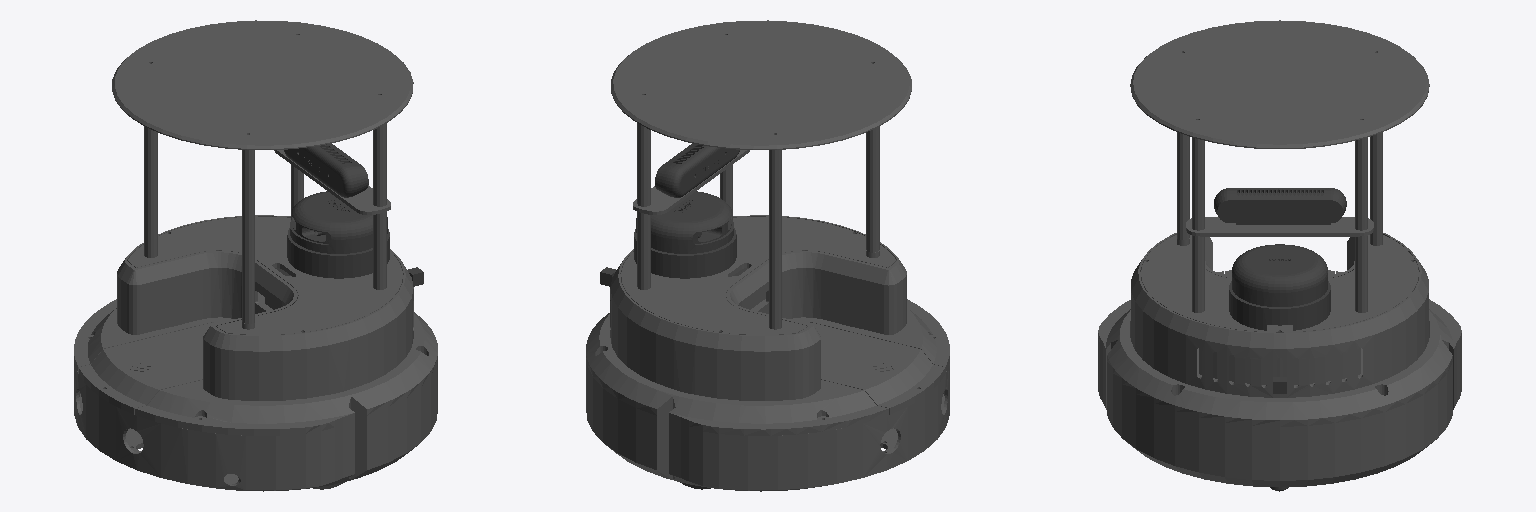
URDF robot description (titan):
<?xml version="1.0" encoding="utf-8"?>

<robot name="titan">

  <!-- ================= MATERIALS (from titan.urdf) ================= -->
  <material name="black">
    <color rgba="0.0 0.0 0.0 1.0"/>
  </material>

  <material name="dark">
    <color rgba="0.3 0.3 0.3 1.0"/>
  </material>

  <material name="light_black">
    <color rgba="0.4 0.4 0.4 1.0"/>
  </material>

  <material name="blue">
    <color rgba="0.0 0.0 0.8 1.0"/>
  </material>

  <material name="green">
    <color rgba="0.0 0.8 0.0 1.0"/>
  </material>

  <material name="grey">
    <color rgba="0.5 0.5 0.5 1.0"/>
  </material>

  <material name="orange">
    <color rgba="1.0 0.4235 0.0392 1.0"/>
  </material>

  <material name="brown">
    <color rgba="0.8706 0.8118 0.7647 1.0"/>
  </material>

  <material name="red">
    <color rgba="0.8 0.0 0.0 1.0"/>
  </material>

  <material name="white">
    <color rgba="1.0 1.0 1.0 1.0"/>
  </material>

  <!-- ================= BASE ================= -->

  <link name="base_footprint"/>

  <joint name="base_link_joint" type="fixed">
    <parent link="base_link"/>
    <child link="base_footprint"/>
    <origin xyz="0 0 0" rpy="0 0 0"/>
  </joint>

  <link name="base_link">

    <!-- MASS UPDATED TO MATCH titan.urdf -->
    <inertial>
      <origin xyz="0.00346341261510518 -0.000431167248793353 0.0900728026786845" rpy="0 0 0"/>
      <mass value="2.920547254934799"/>
      <inertia ixx="0.00396950657190701"
               ixy="3.24338418795685E-06"
               ixz="1.91406169796034E-05"
               iyy="0.00366159045993355"
               iyz="-1.43363832997866E-06"
               izz="0.00731329773396938"/>
    </inertial>

    <visual>
      <origin xyz="0 0 0" rpy="0 0 0"/>
      <geometry>
        <mesh filename="package://titan_description/meshes/titan_meshes/base_link.STL"/>
      </geometry>
      <material name="light_black"/>
    </visual>

    <collision>
      <origin xyz="0 0 0" rpy="0 0 0"/>
      <geometry>
        <mesh filename="package://titan_description/meshes/titan_meshes/base_link.STL"/>
      </geometry>
    </collision>

  </link>

  <!-- ================= LEFT WHEEL ================= -->

  <link name="Left_Wheel_Link">
    <inertial>
      <origin xyz="1.8457E-10 0.0002899 3.6055E-10" rpy="0 0 0"/>
      <mass value="0.035175"/>
      <inertia ixx="1.5237E-05"
               ixy="-1.9322E-13"
               ixz="-4.4739E-10"
               iyy="2.5786E-05"
               iyz="-5.0197E-14"
               izz="1.5237E-05"/>
    </inertial>

    <visual>
      <origin xyz="0 0 0" rpy="0 1.57 1.57"/>
      <geometry>
        <cylinder radius="0.034843" length="0.02"/>
      </geometry>
      <material name="dark"/>
    </visual>

    <collision>
      <origin xyz="0 0 0" rpy="0 1.57 1.57"/>
      <geometry>
        <cylinder radius="0.034843" length="0.02"/>
      </geometry>
    </collision>
  </link>

  <joint name="Left_Wheel_Joint" type="continuous">
    <origin xyz="-0.0001 -0.09075 0.022" rpy="0 0 0"/>
    <parent link="base_link"/>
    <child link="Left_Wheel_Link"/>
    <axis xyz="0 1 0"/>
    <limit effort="2.5" velocity="22"/>
  </joint>

  <!-- ================= RIGHT WHEEL ================= -->

  <link name="Right_Wheel_Link">
    <inertial>
      <origin xyz="-4.6789E-09 -3.9895E-05 4.607E-09" rpy="0 0 0"/>
      <mass value="0.035175"/>
      <inertia ixx="1.5237E-05"
               ixy="-1.4328E-12"
               ixz="-4.4388E-10"
               iyy="2.5786E-05"
               iyz="1.1122E-12"
               izz="1.5237E-05"/>
    </inertial>

    <visual>
      <origin xyz="0 0 0" rpy="0 1.57 1.57"/>
      <geometry>
        <cylinder radius="0.034843" length="0.02"/>
      </geometry>
      <material name="dark"/>
    </visual>

    <collision>
      <origin xyz="0 0 0" rpy="0 1.57 1.57"/>
      <geometry>
        <cylinder radius="0.034843" length="0.02"/>
      </geometry>
    </collision>
  </link>

  <joint name="Right_Wheel_Joint" type="continuous">
    <origin xyz="-0.0001 0.0905 0.022" rpy="0 0 0"/>
    <parent link="base_link"/>
    <child link="Right_Wheel_Link"/>
    <axis xyz="0 1 0"/>
    <limit effort="2.5" velocity="22"/>
  </joint>

    <!-- ================= RGB CAMERA ================= -->

  <link name="RGB_Camera_Link">
    <inertial>
      <origin xyz="-0.0078063 -3.8623E-06 -0.0010259" rpy="0 0 0"/>
      <mass value="0.01352"/>
      <inertia ixx="2.5544E-06"
               ixy="-3.5783E-12"
               ixz="1.7676E-07"
               iyy="1.5924E-06"
               iyz="1.8649E-10"
               izz="1.2081E-06"/>
    </inertial>

    <visual>
      <origin xyz="0 0 0" rpy="0 0 0"/>
      <geometry>
        <box size="0.01 0.01 0.01"/>
      </geometry>
      <material name="dark"/>
    </visual>

    <collision>
      <origin xyz="0 0 0" rpy="0 0 0"/>
      <geometry>
        <box size="0.01 0.01 0.01"/>
      </geometry>
    </collision>
  </link>

  <joint name="RGB_Camera_Joint" type="fixed">
    <origin xyz="0.13025 0 0.088971" rpy="0 0 0"/>
    <parent link="base_link"/>
    <child link="RGB_Camera_Link"/>
  </joint>

  <!-- ================= DEPTH CAMERA ================= -->

  <link name="Depth_Camera_Link">
    <inertial>
      <origin xyz="-0.010806 4.7404E-05 -0.00030365" rpy="0 0 0"/>
      <mass value="0.081395"/>
      <inertia ixx="6.286E-05"
               ixy="-1.3972E-08"
               ixz="6.8703E-08"
               iyy="5.5976E-06"
               iyz="2.1844E-08"
               izz="6.1887E-05"/>
    </inertial>

    <visual>
      <origin xyz="0 0 0" rpy="0 0 0"/>
      <geometry>
        <mesh filename="package://titan_description/meshes/titan_meshes/Depth_Camera_Link.STL"/>
      </geometry>
      <material name="dark"/>
    </visual>

    <collision>
      <origin xyz="0 0 0" rpy="0 0 0"/>
      <geometry>
        <mesh filename="package://titan_description/meshes/titan_meshes/Depth_Camera_Link.STL"/>
      </geometry>
    </collision>
  </link>

  <joint name="Depth_Camera_Joint" type="fixed">
    <origin xyz="0.063825 0.00022394 0.20111" rpy="0 0 0"/>
    <parent link="base_link"/>
    <child link="Depth_Camera_Link"/>
  </joint>

  <!-- ================= FRONT CASTER ================= -->

  <link name="Front_Caster_Link">
    <inertial>
      <origin xyz="0.00020286 -1.2503E-05 0.0041777" rpy="0 0 0"/>
      <mass value="0.0024002"/>
      <inertia ixx="8.6259E-08"
               ixy="-2.1714E-12"
               ixz="6.7243E-13"
               iyy="8.7002E-08"
               iyz="1.0021E-10"
               izz="1.0084E-07"/>
    </inertial>

    <visual>
      <origin xyz="0 0 0" rpy="0 0 0"/>
      <geometry>
        <mesh filename="package://titan_description/meshes/titan_meshes/Front_Caster_Link.STL"/>
      </geometry>
      <material name="dark"/>
    </visual>

    <collision>
      <origin xyz="0 0 0" rpy="0 0 0"/>
      <geometry>
        <mesh filename="package://titan_description/meshes/titan_meshes/Front_Caster_Link.STL"/>
      </geometry>
    </collision>
  </link>

  <joint name="Front_Caster_Joint" type="fixed">
    <origin xyz="-0.099797 0 -0.005" rpy="0 0 0"/>
    <parent link="base_link"/>
    <child link="Front_Caster_Link"/>
  </joint>

  <!-- ================= REAR CASTER ================= -->

  <link name="Rear_Caster_Link">
    <inertial>
      <origin xyz="-8.2468E-08 -0.00021544 0.0041777" rpy="0 0 0"/>
      <mass value="0.0024002"/>
      <inertia ixx="8.6259E-08"
               ixy="-2.1714E-12"
               ixz="6.7243E-13"
               iyy="8.7002E-08"
               iyz="1.0021E-10"
               izz="1.0084E-07"/>
    </inertial>

    <visual>
      <origin xyz="0 0 0" rpy="0 0 0"/>
      <geometry>
        <mesh filename="package://titan_description/meshes/titan_meshes/Rear_Caster_Link.STL"/>
      </geometry>
      <material name="dark"/>
    </visual>

    <collision>
      <origin xyz="0 0 0" rpy="0 0 0"/>
      <geometry>
        <mesh filename="package://titan_description/meshes/titan_meshes/Rear_Caster_Link.STL"/>
      </geometry>
    </collision>
  </link>

  <joint name="Rear_Caster_Joint" type="fixed">
    <origin xyz="0.1 -0.00020294 -0.005" rpy="0 0 0"/>
    <parent link="base_link"/>
    <child link="Rear_Caster_Link"/>
  </joint>

  <!-- ================= LIDAR ================= -->

  <link name="Lidar_Link">
    <inertial>
      <origin xyz="-0.00056498 -1.4613E-05 -0.011701" rpy="0 0 0"/>
      <mass value="0.16538"/>
      <inertia ixx="7.8865E-05"
               ixy="4.8468E-08"
               ixz="2.1847E-06"
               iyy="7.519E-05"
               iyz="2.8859E-08"
               izz="0.00010995"/>
    </inertial>

    <visual>
      <origin xyz="0 0 0" rpy="0 0 0"/>
      <geometry>
        <mesh filename="package://titan_description/meshes/titan_meshes/Lidar_Link.STL"/>
      </geometry>
      <material name="dark"/>
    </visual>

    <collision>
      <origin xyz="0 0 0" rpy="0 0 0"/>
      <geometry>
        <mesh filename="package://titan_description/meshes/titan_meshes/Lidar_Link.STL"/>
      </geometry>
    </collision>
  </link>

  <joint name="Lidar_Joint" type="fixed">
    <origin xyz="0.065 0 0.15166" rpy="0 0 3.14159265"/>
    <parent link="base_link"/>
    <child link="Lidar_Link"/>
  </joint>

</robot>

--- Render facts (derived) ---
The picture shows the robot from 3 angles, left to right: view 1: azimuth 30°, elevation 25°; view 2: azimuth 150°, elevation 25°; view 3: azimuth 270°, elevation 25°; orthographic projection.
Model titan with 9 links and 8 joints (2 continuous, 6 fixed), rooted at base_link, posed all joints at 0.
Visible links, largest first — view 1: base_link, Lidar_Link, Depth_Camera_Link; view 2: base_link, Lidar_Link, Depth_Camera_Link; view 3: base_link, Lidar_Link, Depth_Camera_Link.
Boxes of the visible links, left/top/right/bottom form: base_link: left=74, top=20, right=437, bottom=491; Lidar_Link: left=287, top=191, right=389, bottom=278; Depth_Camera_Link: left=284, top=143, right=368, bottom=197; base_link: left=586, top=20, right=949, bottom=491; Lidar_Link: left=634, top=191, right=736, bottom=278; Depth_Camera_Link: left=655, top=143, right=739, bottom=197; base_link: left=1098, top=20, right=1461, bottom=487; Lidar_Link: left=1229, top=244, right=1330, bottom=330; Depth_Camera_Link: left=1214, top=188, right=1346, bottom=224.
Bounding box of the posed robot: 0.2753 × 0.2718 × 0.2909 m (x, y, z).
4 mesh visuals loaded from 5 distinct referenced files (4 binary STL); not drawn: 1 (reference not matched to a file when rendering).
